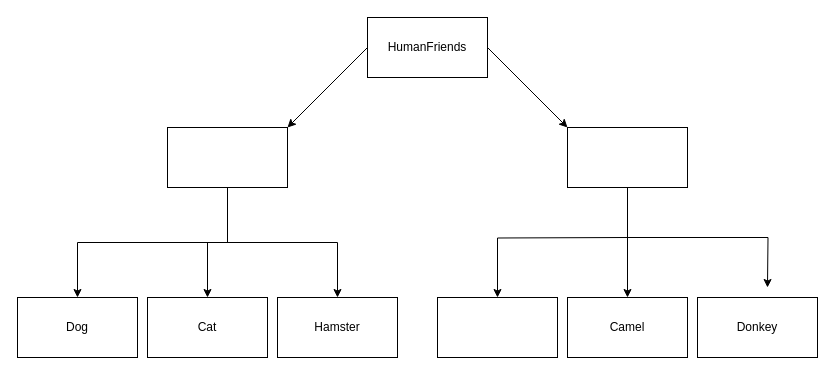
The diagram is 835 pixels wide and 375 high, and some of its shapes have lost their labels. Here are the shapes that lost their labels. From the top down, the centre of each, then its label:
At (x=227, y=157): "HomeAnimal".
At (x=627, y=157): "PackAnimals".
At (x=497, y=327): "Horse".
